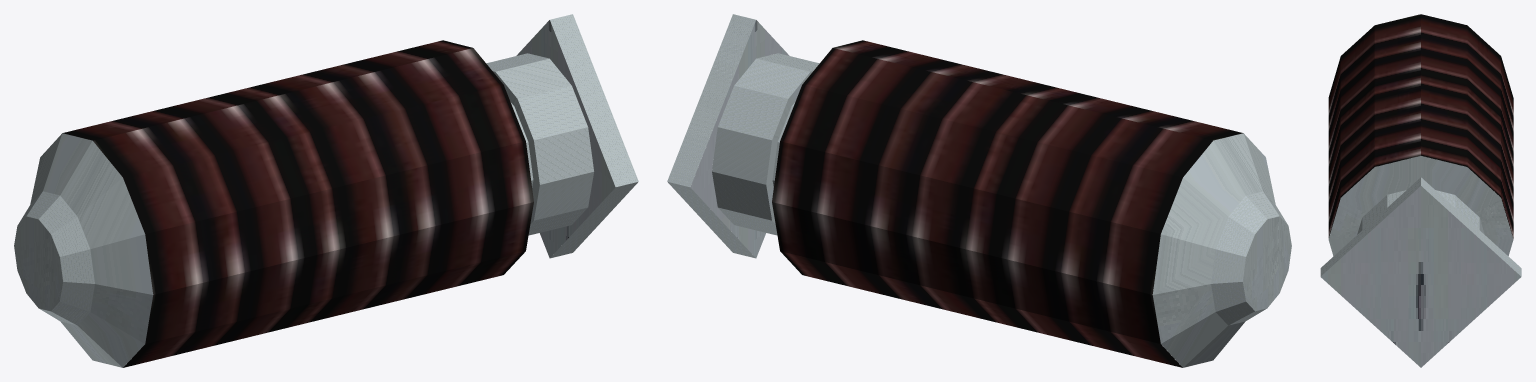
Rendered from jyzzz222-geode.glb.
The picture shows the model from 3 angles, left to right: view 1: azimuth 30°, elevation 25°; view 2: azimuth 150°, elevation 25°; view 3: azimuth 270°, elevation 25°; orthographic projection. The views are drawn at different scales.
Visible parts, largest first — view 1: Node; view 2: Node; view 3: Node.
Part boxes in pixels (x1,y1,x2,y2): Node: (14,14,638,367); Node: (667,14,1291,367); Node: (1320,14,1521,367).
Size of the model in its own units: 0.3001 by 0.1282 by 0.1282.
3 materials, 3 textured.
